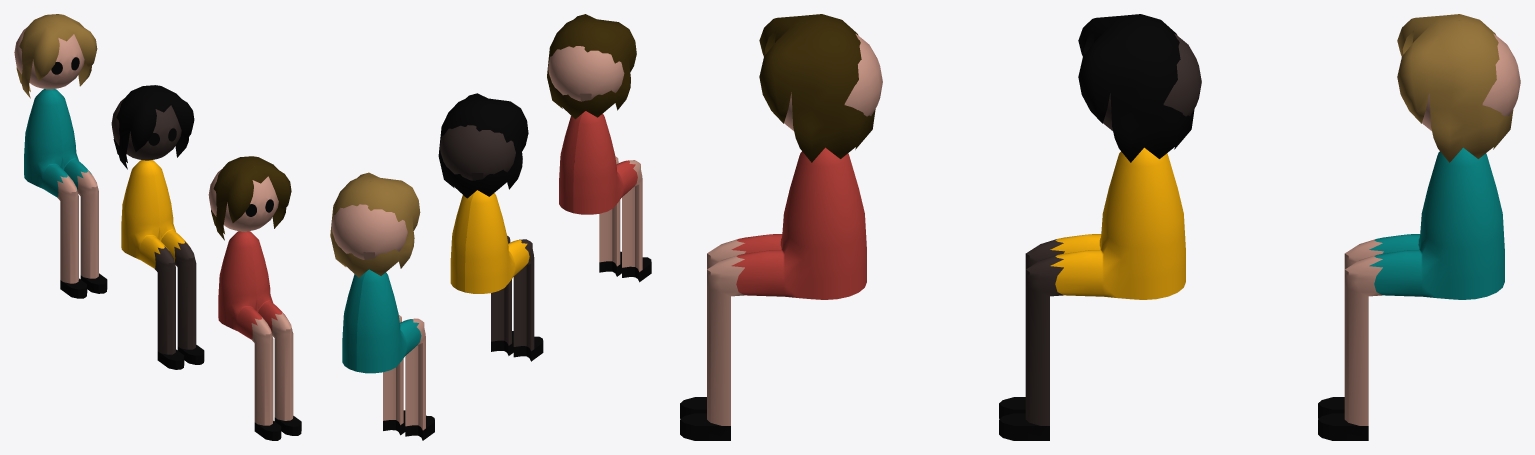
File: SM_Update_woman1_2_3.fbx
The picture shows the model from 3 angles, left to right: view 1: azimuth 30°, elevation 25°; view 2: azimuth 150°, elevation 25°; view 3: azimuth 270°, elevation 25°; orthographic projection. The views are drawn at different scales.
Parts seen in each view (by area): view 1: SM_Body_woman_1, SM_Body_woman_2, SM_Body_woman_3, SM_Hair_woman_3, SM_Hair_woman_2, SM_Hair_woman_1; view 2: SM_Body_woman_2, SM_Body_woman_1, SM_Body_woman_3, SM_Hair_woman_2, SM_Hair_woman_3, SM_Hair_woman_1; view 3: SM_Body_woman_3, SM_Body_woman_2, SM_Body_woman_1, SM_Hair_woman_3, SM_Hair_woman_2, SM_Hair_woman_1.
Boxes of the visible parts, x1,y1,x2,y2 form: SM_Body_woman_1: (218, 231, 301, 440); SM_Body_woman_2: (121, 160, 204, 369); SM_Body_woman_3: (24, 89, 107, 298); SM_Hair_woman_3: (14, 14, 97, 98); SM_Hair_woman_2: (111, 85, 194, 169); SM_Hair_woman_1: (208, 156, 291, 240); SM_Body_woman_2: (450, 190, 543, 361); SM_Body_woman_1: (559, 111, 651, 282); SM_Body_woman_3: (342, 269, 434, 440); SM_Hair_woman_2: (438, 93, 528, 198); SM_Hair_woman_3: (330, 172, 420, 277); SM_Hair_woman_1: (547, 14, 636, 119); SM_Body_woman_3: (1318, 147, 1504, 440); SM_Body_woman_2: (999, 147, 1185, 440); SM_Body_woman_1: (680, 147, 866, 440); SM_Hair_woman_3: (1397, 14, 1520, 162); SM_Hair_woman_2: (1078, 14, 1201, 162); SM_Hair_woman_1: (759, 14, 882, 162).
Bounding box in the file's own units: 0.4043 × 1.41 × 2.64.
